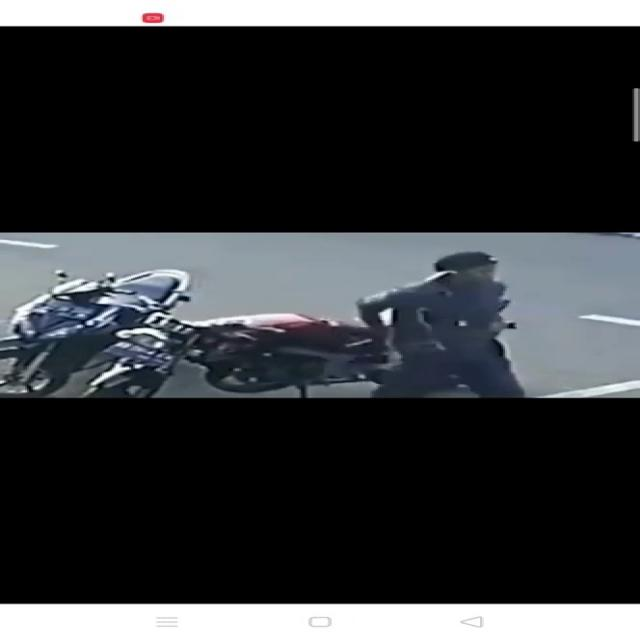pencurian: (137, 252, 555, 398)
